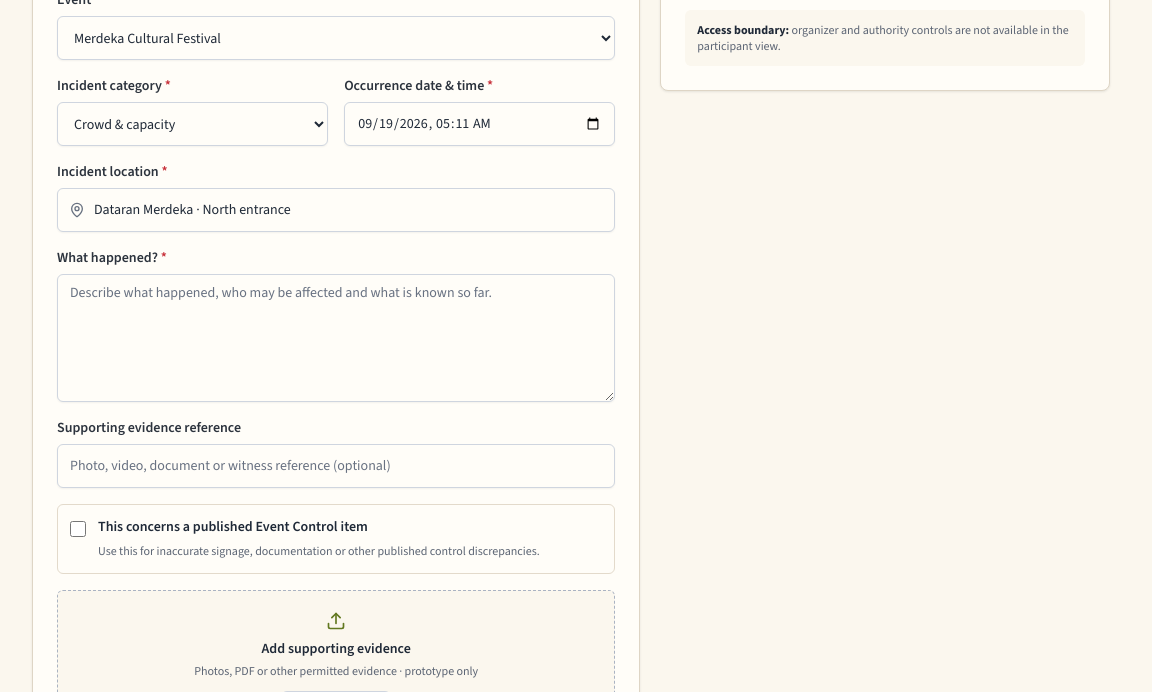
Test: IncidentReportingPrototype integration boundary › does not mark organizer review complete immediately after reporter submission
This screenshot has width=1152, height=692.
(page scrolled)
Replace the text in the text box labelled "What happened? *" with "A barrier blocked the marked emergency access route." at point(336, 338), box [57,274,615,402]
(page scrolled)
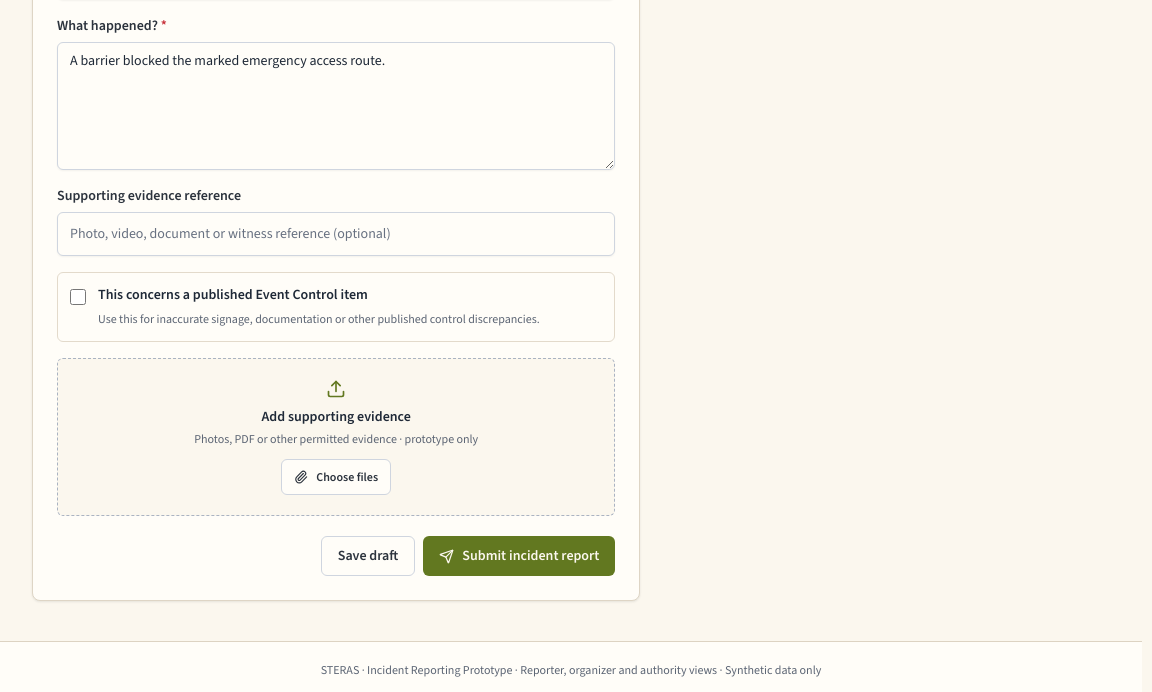
Click the button "Submit incident report".
click(519, 556)  # box [423,536,615,576]
(page scrolled)
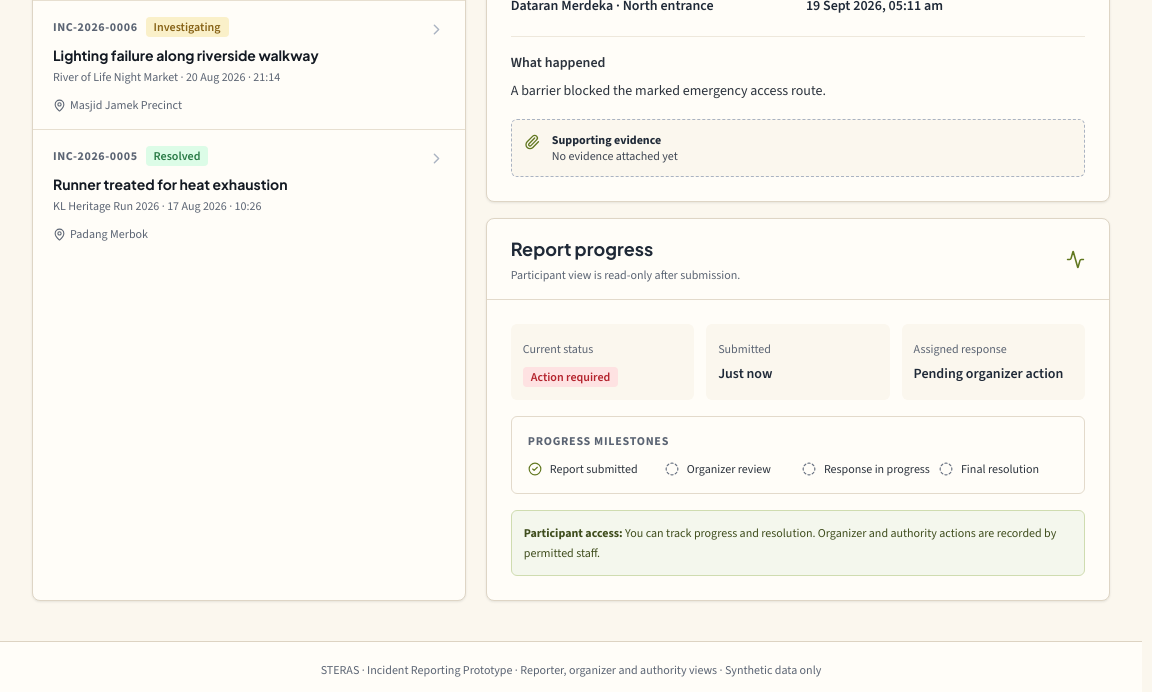
Result: the list item with aria-label "Report submitted: Complete" is shown at [528,461,657,477]
Result: the list item with aria-label "Organizer review: Waiting" is shown at [665,461,771,477]
Result: the list item with aria-label "Response in progress: Waiting" is shown at [802,461,931,477]
